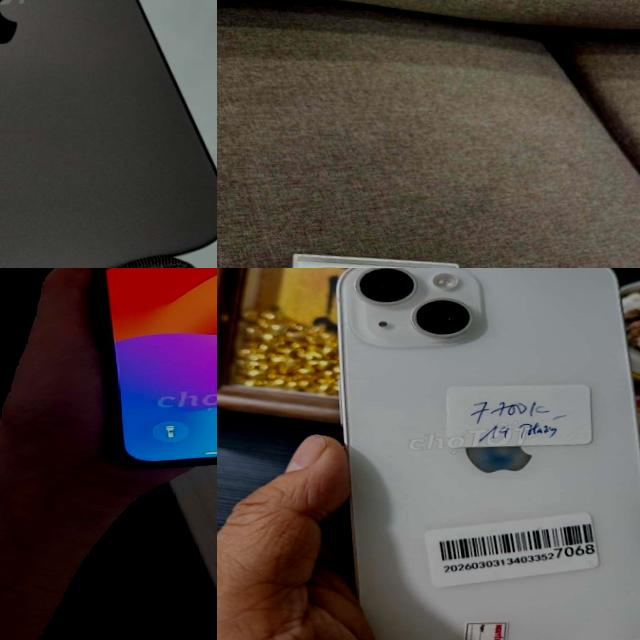gen_14: (323, 268, 640, 640)
gen_15: (0, 0, 217, 268)
gen_16: (95, 268, 217, 468)
